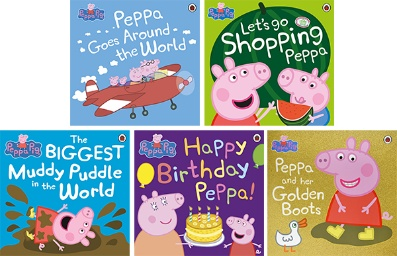Peppa: (314, 137, 395, 243), (208, 56, 271, 127), (26, 203, 97, 252), (224, 213, 261, 256)
